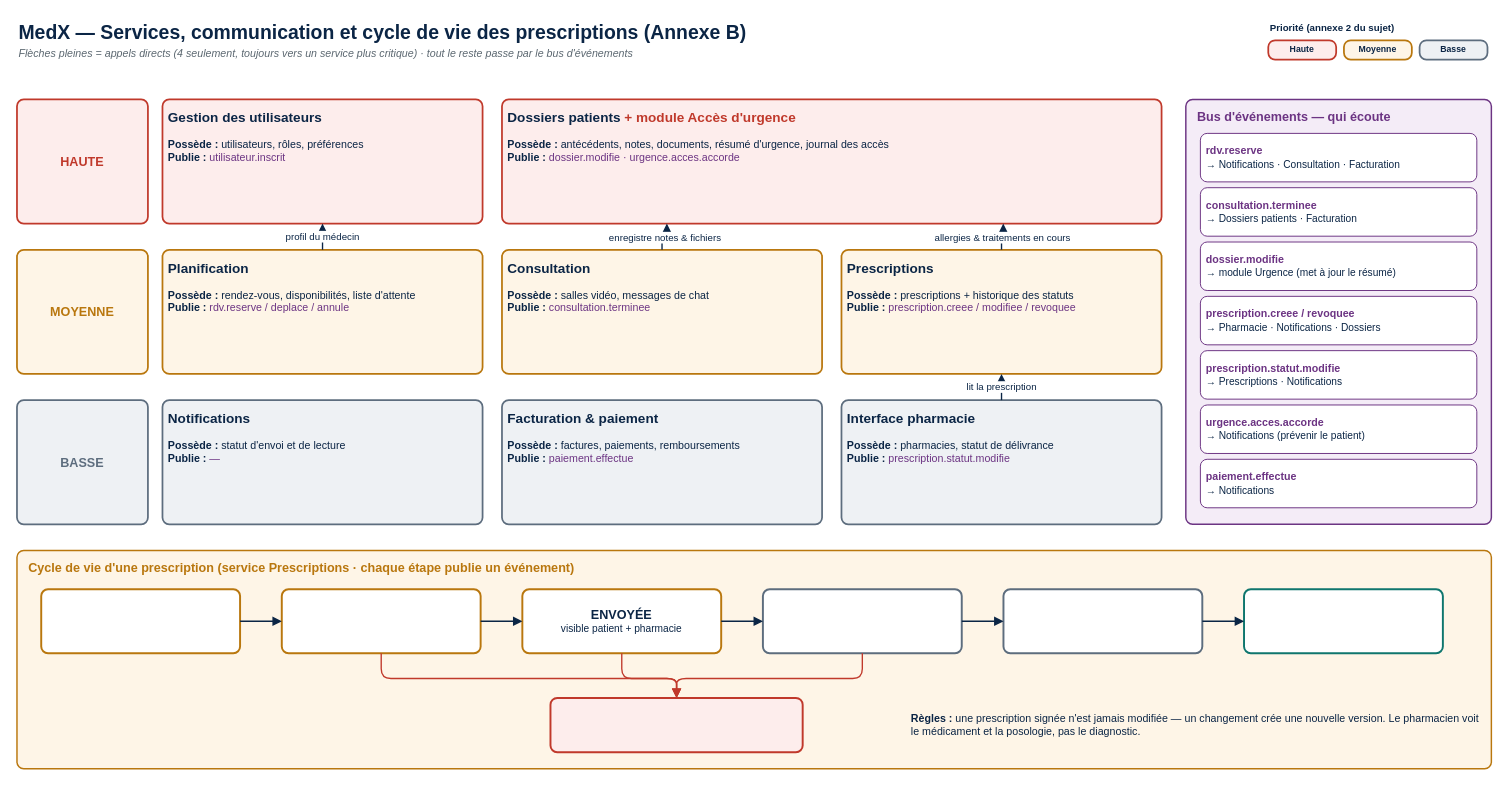
This 1509x786 diagram has some shape labels left out. The centre of each missing label's shape, as x and y in pixels:
"BROUILLON le médecin rédige" belongs at point 140,621.
"DÉLIVRÉE terminé" belongs at point 1343,621.
"PRÊTE / EXPÉDIÉE retrait ou livraison" belongs at point 1102,621.
"REÇUE la pharmacie confirme" belongs at point 861,621.
"RÉVOQUÉE le médecin annule — pharmacie alertée aussitôt" belongs at point 676,724.
"SIGNÉE signature (MFA)" belongs at point 380,621.
